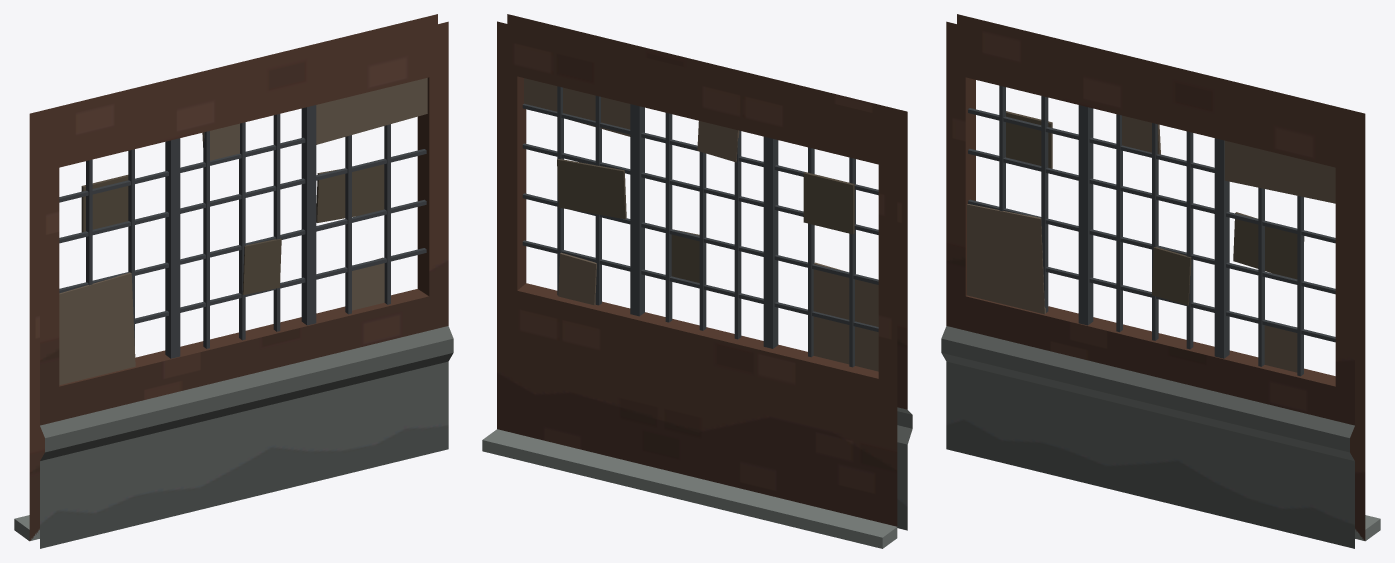
File: SM_Bld_Wall_Brick_Window_02.obj
3 renders of one model, left to right at view 1: azimuth 30°, elevation 25°; view 2: azimuth 150°, elevation 25°; view 3: azimuth 330°, elevation 25°, orthographic. The views are drawn at different scales.
Visible parts, largest first — view 1: SM_Bld_Wall_Brick_Window_02_0; view 2: SM_Bld_Wall_Brick_Window_02_0; view 3: SM_Bld_Wall_Brick_Window_02_0.
Part boxes in pixels (x1,y1,x2,y2): SM_Bld_Wall_Brick_Window_02_0: [14, 14, 453, 548]; SM_Bld_Wall_Brick_Window_02_0: [482, 14, 912, 548]; SM_Bld_Wall_Brick_Window_02_0: [941, 14, 1380, 548].
Size of the model in its own units: 3 by 3 by 0.39.
1 material, 1 textured.
